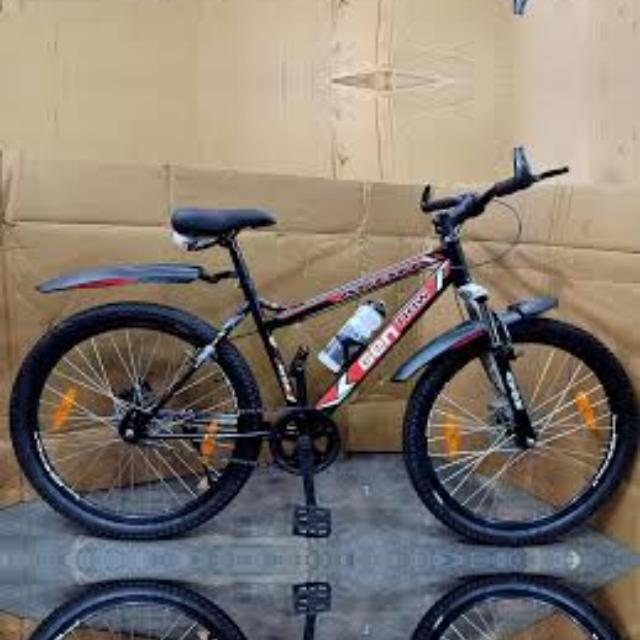obstacle: (13, 139, 640, 559), (13, 559, 640, 640), (13, 0, 640, 21)
